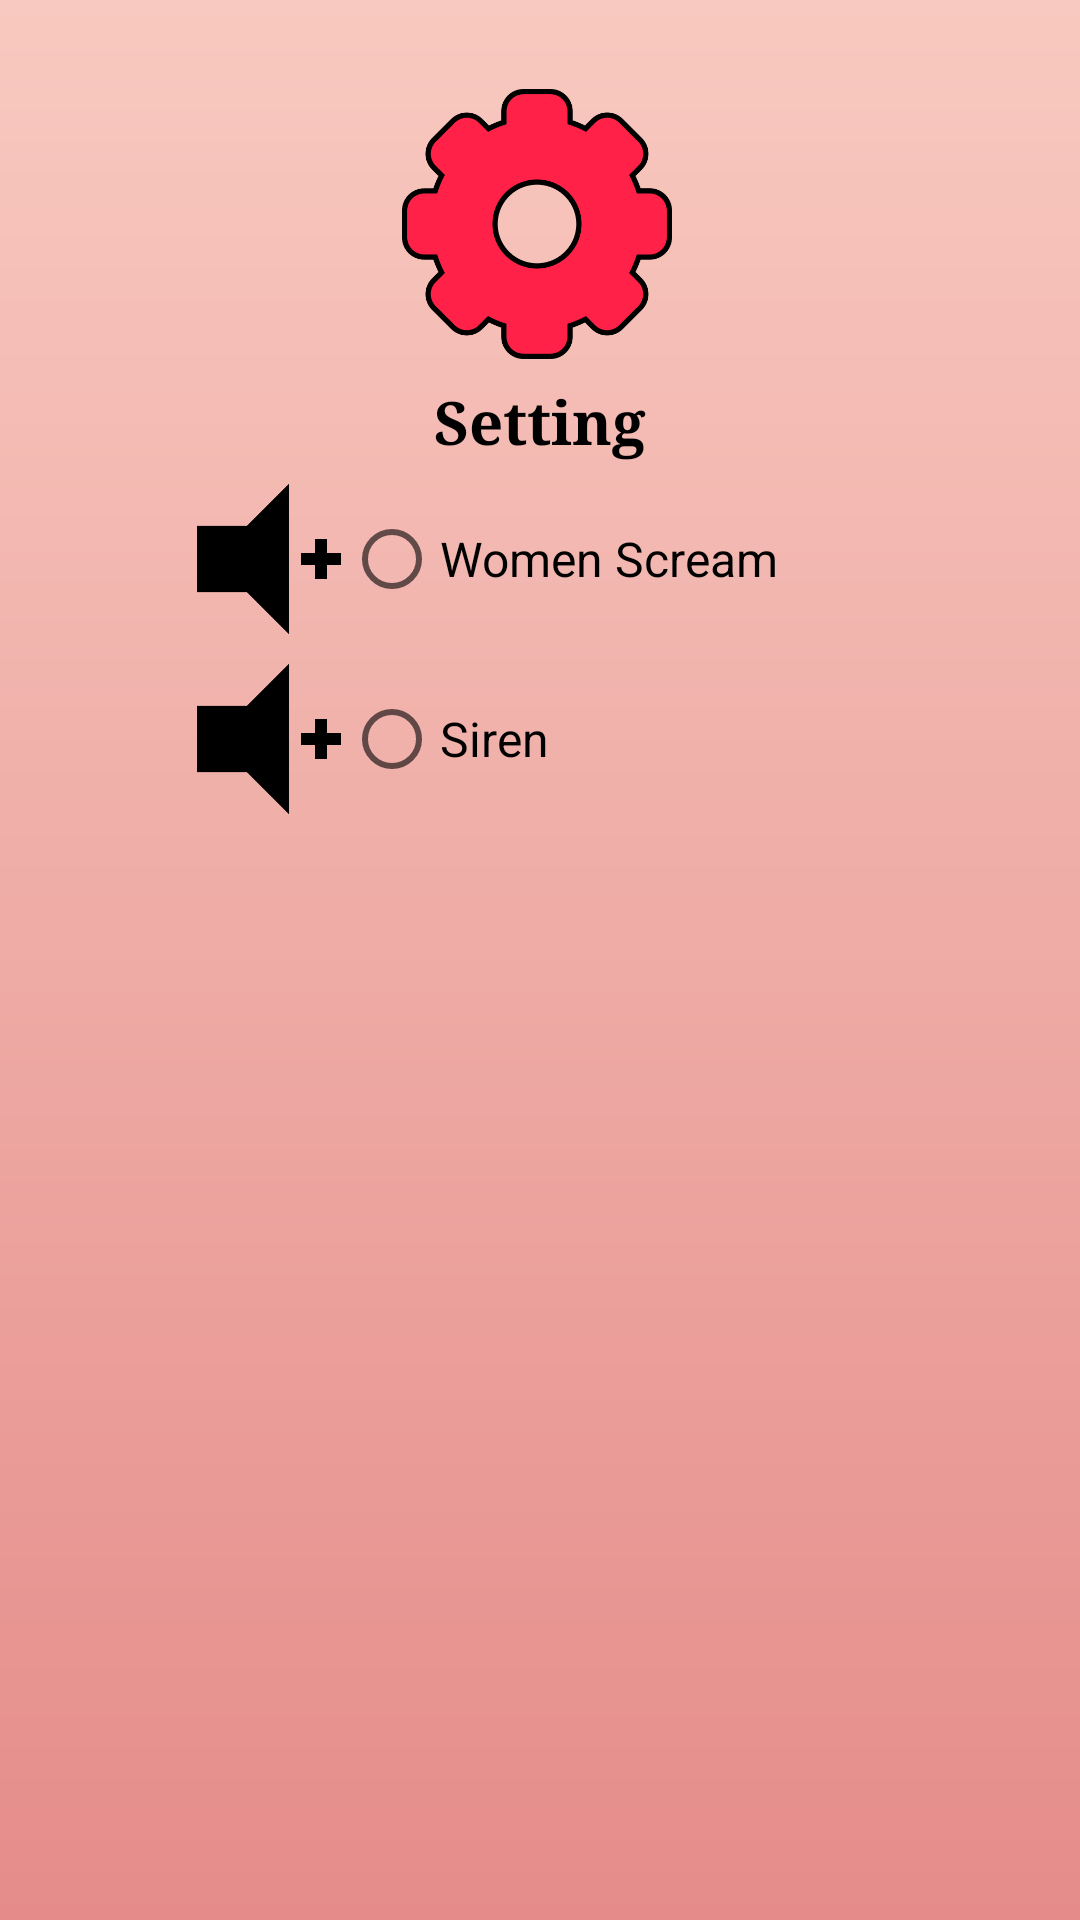

Named icons in this screenshot (1080 x 1920) and their bounding boxes, (x1, y1, x2, y2):
volume: (197, 484, 341, 634), (197, 664, 341, 814)
